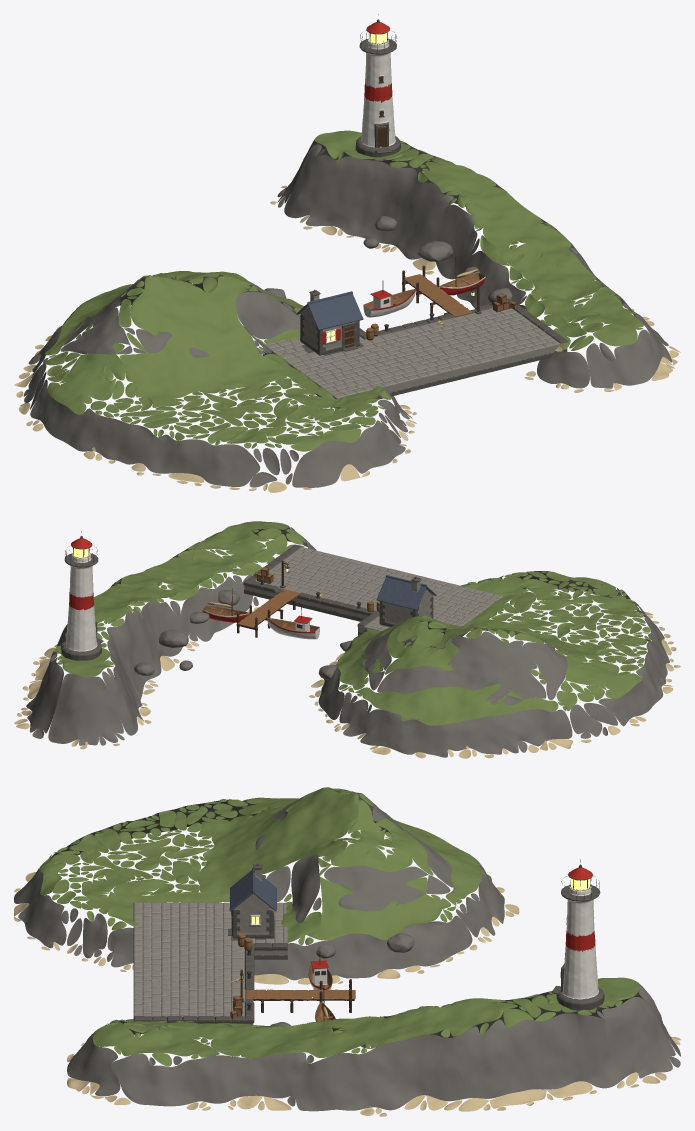
File: harbor_knete.glb
3 views of the same model, one above another, from view 1: azimuth 30°, elevation 25°; view 2: azimuth 150°, elevation 25°; view 3: azimuth 270°, elevation 25° (orthographic). The views are drawn at different scales.
Visible parts, largest first — view 1: WestHill, Headland, Quay, Lighthouse, Cottage, RocksSea, Jetty, BoatA, BoatB; view 2: WestHill, Headland, Quay, Lighthouse, Cottage, RocksSea, Jetty, BoatA, BoatB; view 3: WestHill, Headland, Quay, Lighthouse, Cottage, Jetty, RocksSea, BoatA.
Part boxes in pixels (left/top/right/bottom): WestHill: left=14, top=271, right=416, bottom=492; Headland: left=270, top=130, right=680, bottom=392; Quay: left=263, top=299, right=567, bottom=408; Lighthouse: left=355, top=14, right=400, bottom=161; Cottage: left=296, top=289, right=363, bottom=355; RocksSea: left=264, top=216, right=512, bottom=303; Jetty: left=402, top=265, right=472, bottom=316; BoatA: left=363, top=280, right=416, bottom=317; BoatB: left=439, top=256, right=485, bottom=295; WestHill: left=309, top=571, right=680, bottom=758; Headland: left=14, top=521, right=316, bottom=749; Quay: left=243, top=544, right=503, bottom=649; Lighthouse: left=61, top=531, right=103, bottom=660; Cottage: left=376, top=575, right=436, bottom=626; RocksSea: left=134, top=590, right=352, bottom=680; Jetty: left=236, top=589, right=299, bottom=637; BoatA: left=266, top=607, right=319, bottom=639; BoatB: left=202, top=588, right=249, bottom=622; WestHill: left=14, top=787, right=519, bottom=984; Headland: left=67, top=977, right=680, bottom=1116; Quay: left=133, top=902, right=287, bottom=1032; Lighthouse: left=551, top=859, right=604, bottom=1013; Cottage: left=228, top=863, right=276, bottom=938; Jetty: left=246, top=979, right=355, bottom=1012; RocksSea: left=270, top=932, right=414, bottom=1031; BoatA: left=308, top=951, right=332, bottom=989.
Bounding box in the file's own units: 53.55 × 17.12 × 50.16.
